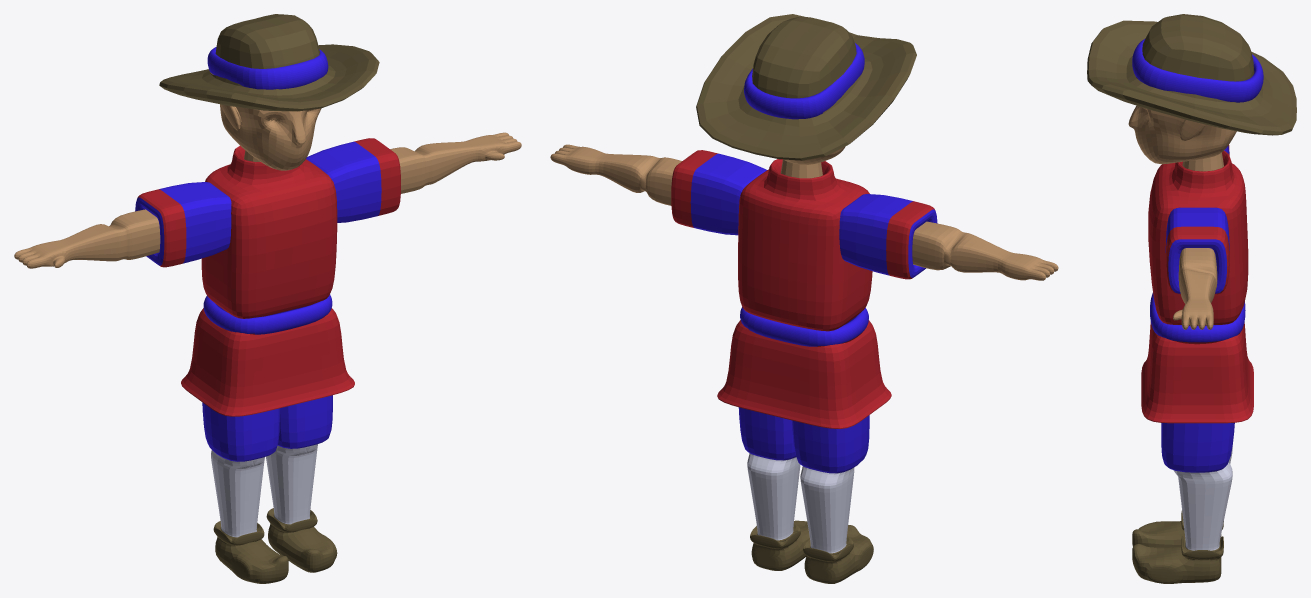
Rendered from rider_onfoot.fbx.
3 renders of one model, left to right at view 1: azimuth 30°, elevation 25°; view 2: azimuth 150°, elevation 25°; view 3: azimuth 270°, elevation 25°, orthographic.
Visible parts, largest first — view 1: body.001, arms.001, head.001, legs.001; view 2: body.001, head.001, arms.001, legs.001; view 3: head.001, body.001, legs.001, arms.001.
Part boxes in pixels (x1=…): body.001: x1=181, y1=146, x2=354, y2=416; arms.001: x1=14, y1=132, x2=521, y2=268; head.001: x1=159, y1=14, x2=379, y2=170; legs.001: x1=202, y1=395, x2=337, y2=583; body.001: x1=717, y1=159, x2=891, y2=428; head.001: x1=696, y1=14, x2=916, y2=164; arms.001: x1=550, y1=144, x2=1058, y2=280; legs.001: x1=738, y1=407, x2=873, y2=583; head.001: x1=1087, y1=14, x2=1296, y2=164; body.001: x1=1141, y1=150, x2=1253, y2=423; legs.001: x1=1132, y1=423, x2=1234, y2=583; arms.001: x1=1165, y1=145, x2=1229, y2=329.
Size of the model in its own units: 895 by 932 by 328.
